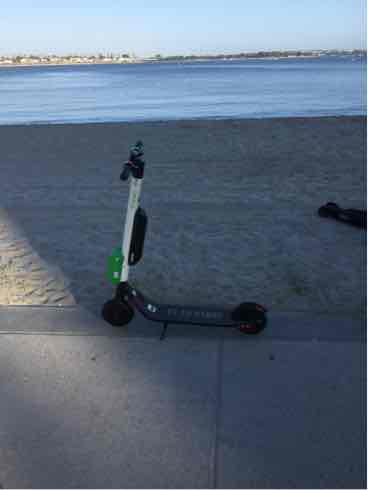scooter: (123, 89, 342, 283)
